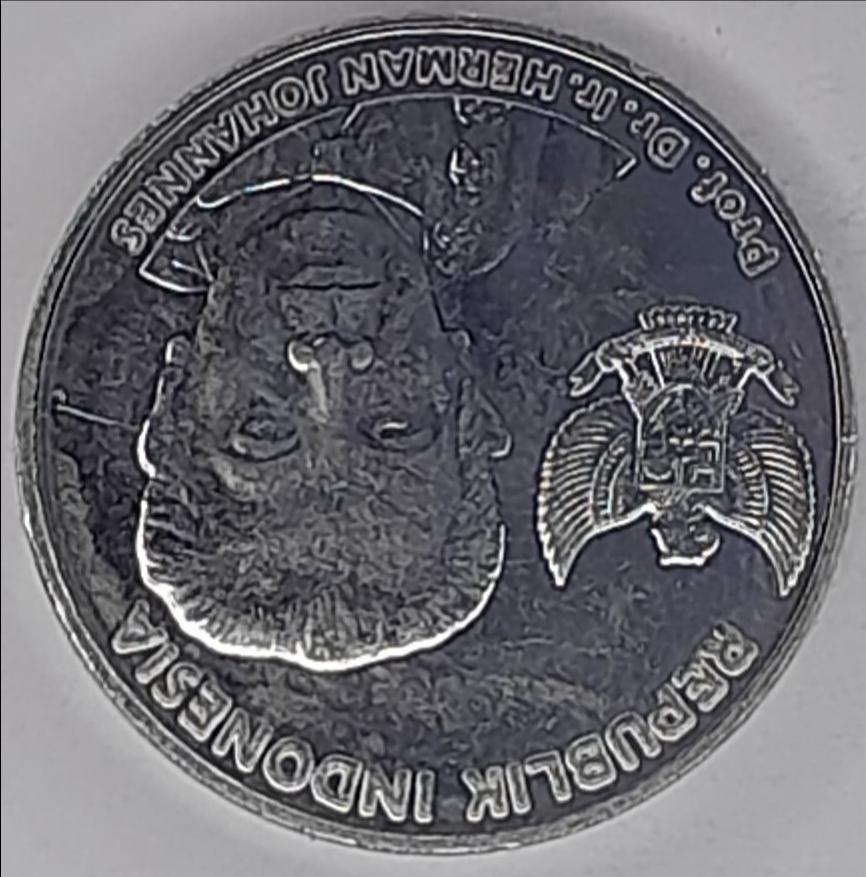coin_100_e2016: (9, 6, 863, 856)
